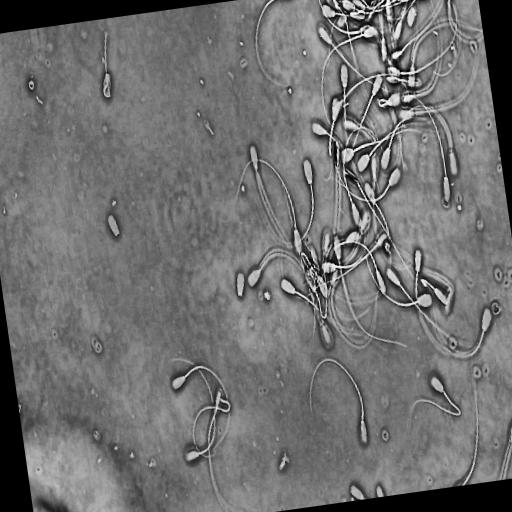coiled-tail: (302, 252, 317, 282), (349, 8, 366, 22), (329, 120, 335, 155), (103, 83, 111, 98), (105, 32, 107, 83), (379, 98, 388, 108)
dirt-particles: (380, 427, 391, 443)
distal-droplet: (371, 197, 376, 204)
folded-tail: (408, 389, 461, 431), (315, 263, 327, 318)
loose-head: (102, 207, 123, 243), (235, 266, 247, 303)
loose-tail: (192, 396, 232, 460)
normal: (333, 232, 412, 350), (411, 246, 482, 361), (385, 265, 466, 352), (235, 156, 304, 258), (320, 25, 376, 139), (317, 25, 403, 99), (307, 355, 371, 453), (363, 223, 435, 310), (170, 358, 232, 459), (165, 353, 218, 469), (384, 1, 459, 80), (407, 17, 483, 91), (407, 92, 454, 210), (413, 294, 496, 360), (259, 156, 316, 252), (305, 230, 390, 292), (405, 367, 466, 444), (342, 126, 388, 228), (398, 103, 458, 178), (279, 275, 350, 336), (332, 145, 402, 205), (326, 238, 388, 297), (345, 73, 383, 168), (356, 121, 423, 173), (339, 62, 354, 168), (306, 255, 329, 322), (99, 25, 117, 107), (301, 251, 331, 300), (327, 96, 340, 159), (365, 0, 418, 15), (376, 93, 403, 109)
